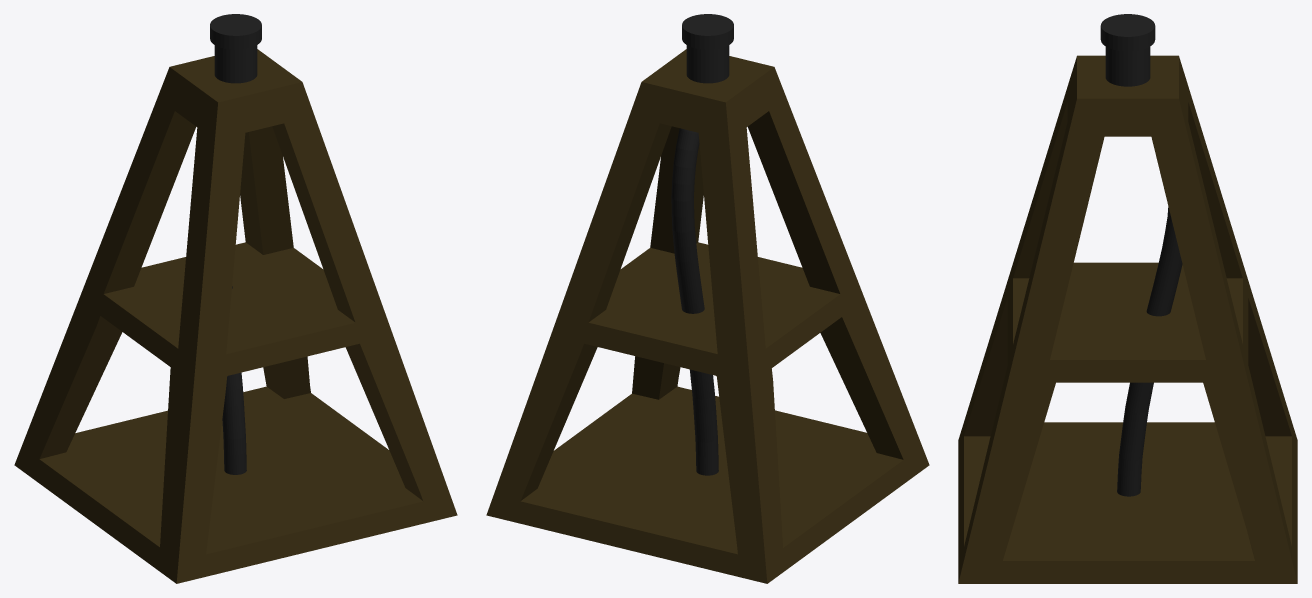
The model's file is sprinkler.gltf.
3 renders of one model, left to right at view 1: azimuth 30°, elevation 25°; view 2: azimuth 150°, elevation 25°; view 3: azimuth 270°, elevation 25°, orthographic. The views are drawn at different scales.
Parts seen in each view (by area): view 1: Cone, Cylinder.001, Cylinder.002, Cylinder; view 2: Cone, Cylinder.001, Cylinder.002, Cylinder; view 3: Cone, Cylinder.001, Cylinder.002, Cylinder.
Boxes of the visible parts, box(x1,y1,x2,y2) form: Cone: box(14, 49, 457, 583); Cylinder.001: box(222, 286, 246, 474); Cylinder.002: box(210, 14, 261, 49); Cylinder: box(214, 45, 257, 83); Cone: box(486, 49, 929, 583); Cylinder.001: box(671, 128, 718, 475); Cylinder.002: box(682, 14, 733, 49); Cylinder: box(686, 45, 729, 83); Cone: box(958, 55, 1297, 583); Cylinder.001: box(1117, 207, 1182, 496); Cylinder.002: box(1100, 14, 1155, 51); Cylinder: box(1105, 47, 1150, 86).
Size of the model in its own units: 1.41 by 2.24 by 1.41.
